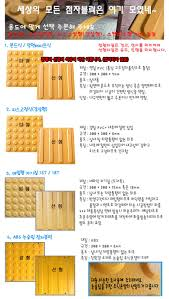block(line type): (39, 62, 75, 99)
block(point type): (8, 50, 40, 85)
